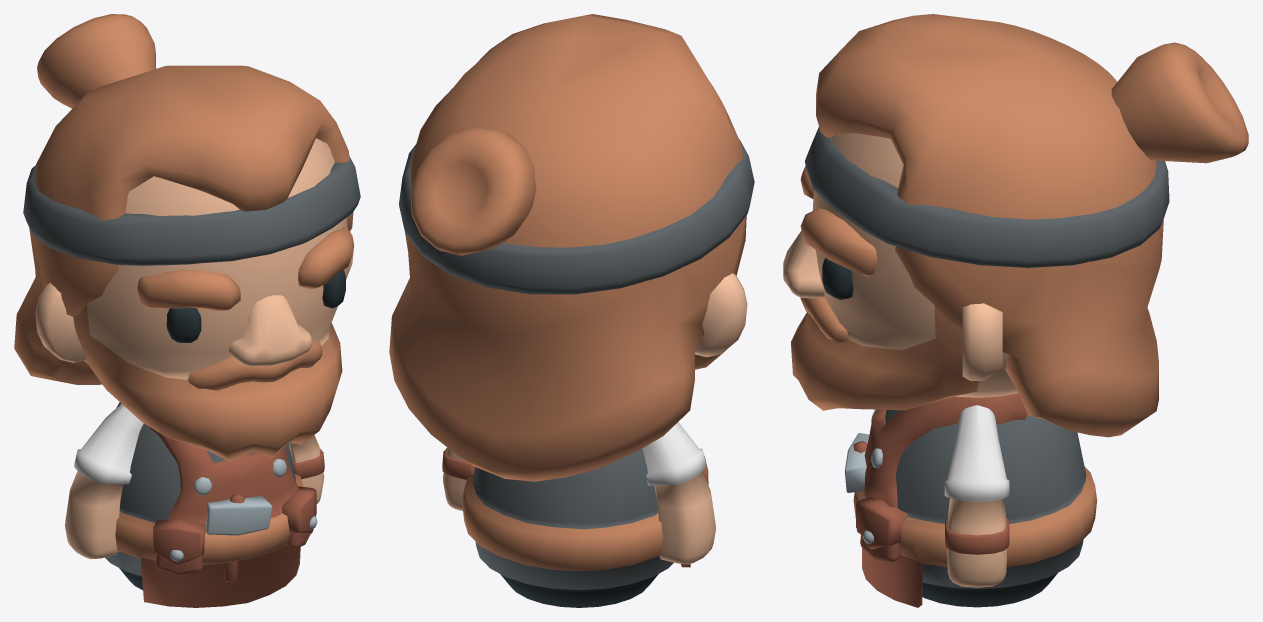
Rendered from character_blacksmith.gltf.
The picture shows the model from 3 angles, left to right: view 1: azimuth 30°, elevation 25°; view 2: azimuth 150°, elevation 25°; view 3: azimuth 270°, elevation 25°; orthographic projection. The views are drawn at different scales.
Visible parts, largest first — view 1: character_blacksmithHead, character_blacksmithBody, character_blacksmithArmRight, character_blacksmithArmLeft; view 2: character_blacksmithHead, character_blacksmithBody, character_blacksmithArmRight, character_blacksmithArmLeft; view 3: character_blacksmithHead, character_blacksmithBody, character_blacksmithArmLeft.
Part boxes in pixels (bbox=[...]): character_blacksmithHead: bbox=[14, 14, 360, 461]; character_blacksmithBody: bbox=[105, 402, 317, 607]; character_blacksmithArmRight: bbox=[65, 404, 143, 559]; character_blacksmithArmLeft: bbox=[288, 435, 324, 503]; character_blacksmithHead: bbox=[389, 14, 754, 481]; character_blacksmithBody: bbox=[462, 448, 708, 607]; character_blacksmithArmRight: bbox=[642, 422, 715, 564]; character_blacksmithArmLeft: bbox=[442, 447, 474, 510]; character_blacksmithHead: bbox=[783, 14, 1248, 437]; character_blacksmithBody: bbox=[844, 393, 1097, 607]; character_blacksmithArmLeft: bbox=[944, 405, 1009, 587].
Bounding box in the file's own units: 1.18 × 1.78 × 1.41.
